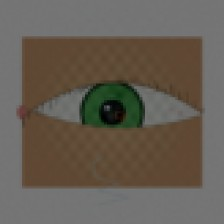foreign_body_visible: (106, 105, 133, 126)
